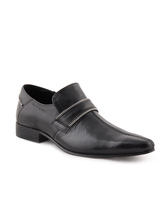shoes: (13, 84, 158, 159)
